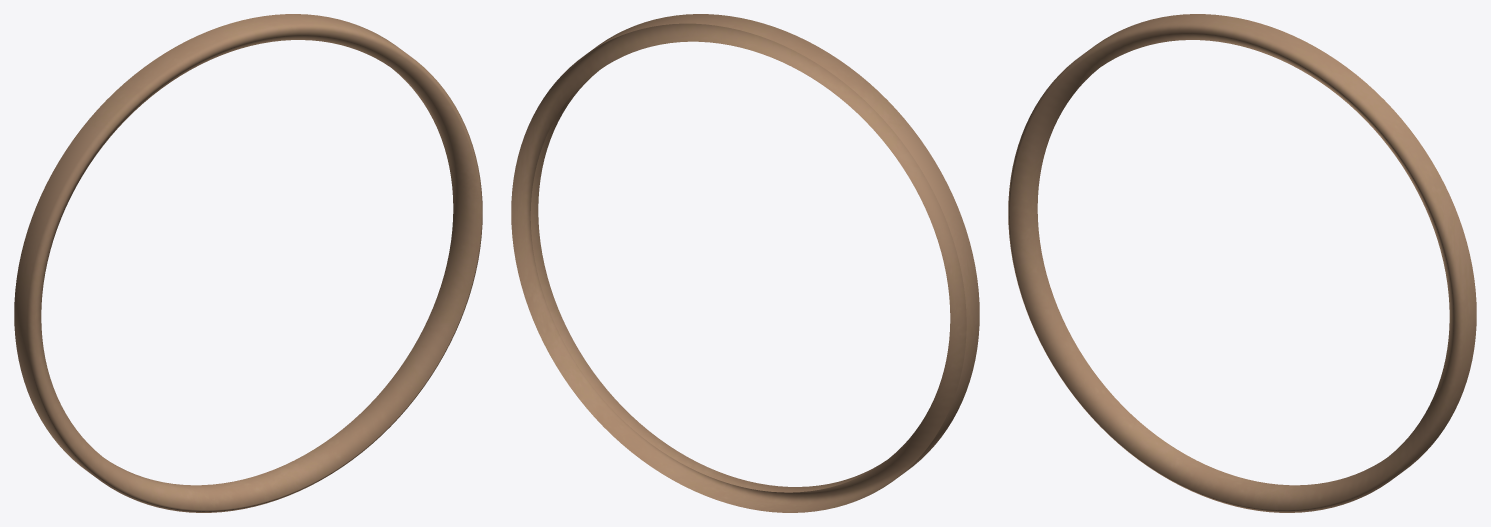
Rendered from ButterflySquare.gltf.
3 renders of one model, left to right at view 1: azimuth 30°, elevation 25°; view 2: azimuth 150°, elevation 25°; view 3: azimuth 330°, elevation 25°, orthographic.
Parts seen in each view (by area): view 1: ButterflySquare; view 2: ButterflySquare; view 3: ButterflySquare.
Boxes of the visible parts, x1,y1,x2,y2 form: ButterflySquare: (14,14,482,512); ButterflySquare: (511,14,979,512); ButterflySquare: (1008,14,1476,512).
Size of the model in its own units: 2.4 by 2.4 by 0.144.
Materials: 1 (1 with a texture image).
